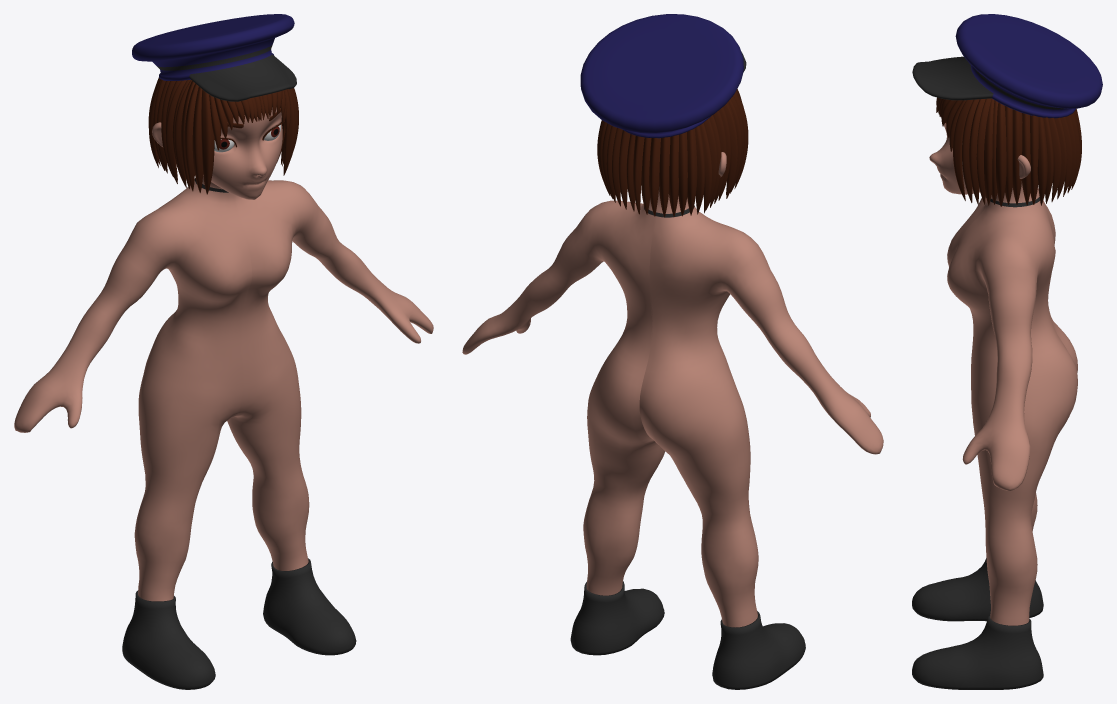
The model's file is female baseCHCOMPLETE.fbx.
3 views of the same model, side by side, from view 1: azimuth 30°, elevation 25°; view 2: azimuth 150°, elevation 25°; view 3: azimuth 270°, elevation 25° (orthographic).
Parts seen in each view (by area): view 1: body; view 2: body; view 3: body.
Boxes of the visible parts, bbox=[...] form: body: bbox=[14, 14, 433, 689]; body: bbox=[462, 14, 883, 689]; body: bbox=[912, 14, 1102, 689].
Bounding box in the file's own units: 81.72 × 117 × 33.1.
